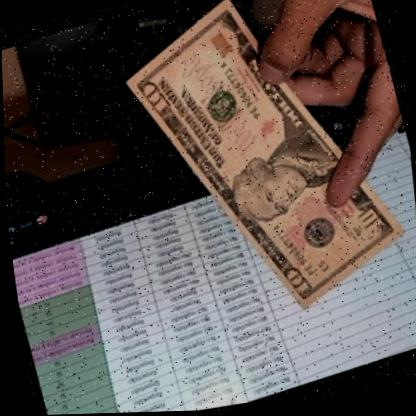ten-front: (101, 0, 416, 353)
